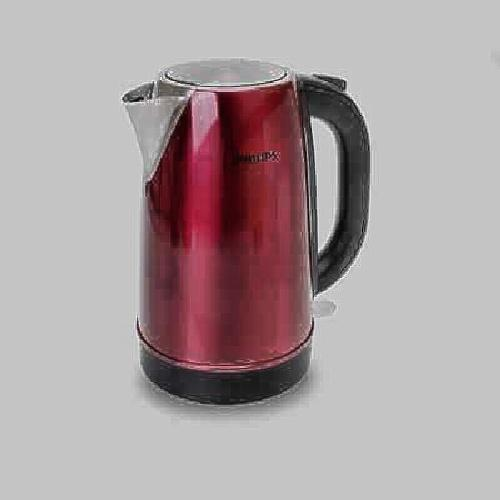kettle: (123, 61, 371, 409)
